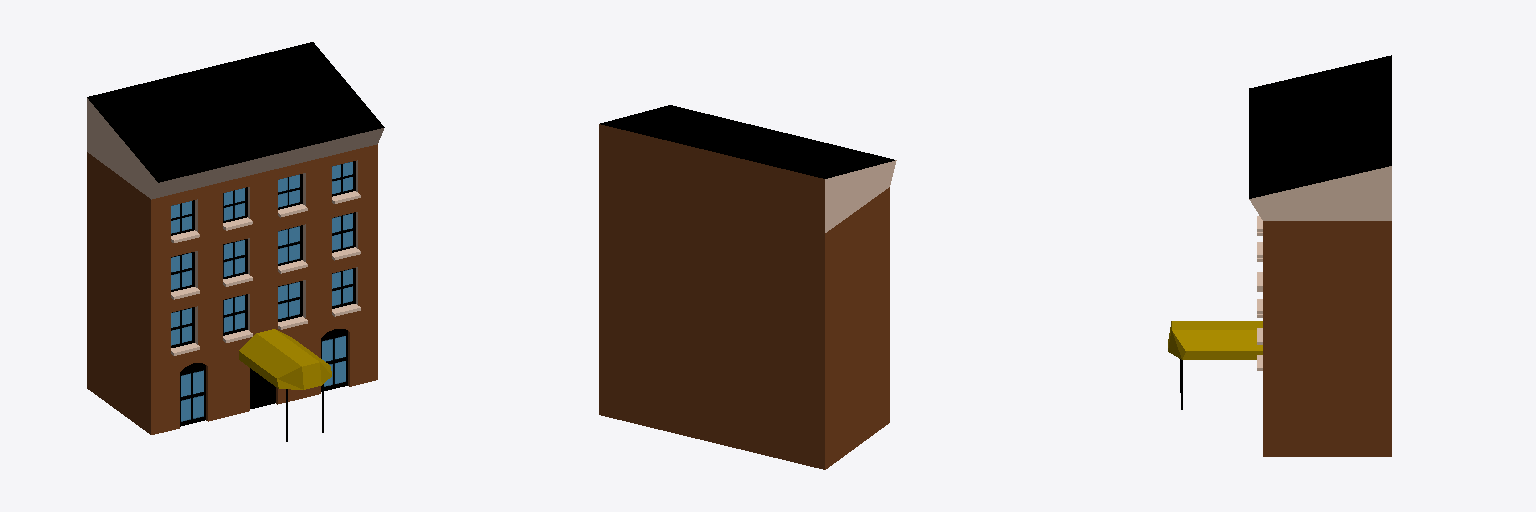
The picture shows the model from 3 angles: view 1: azimuth 30°, elevation 25°; view 2: azimuth 150°, elevation 25°; view 3: azimuth 270°, elevation 25°; orthographic projection.
Visible parts, largest first — view 1: buildingJazz3; view 2: buildingJazz3; view 3: buildingJazz3.
Boxes of the visible parts, box(x1,y1,x2,y2) form: buildingJazz3: box(87, 42, 384, 441); buildingJazz3: box(599, 105, 896, 469); buildingJazz3: box(1168, 55, 1391, 456).
Bounding box in the file's own units: 10 × 12.26 × 8.57.
Materials: 1 (1 with a texture image).